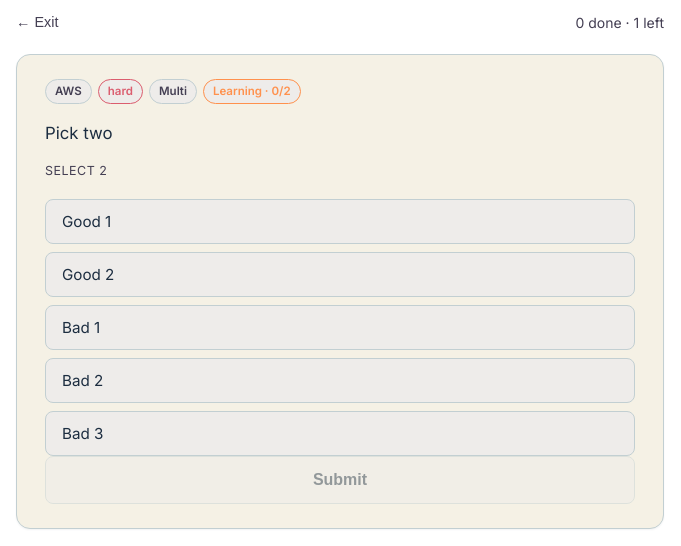
Test case: MRCard › shows Select N hint and disables Submit until exactly N picked
The width and height of the screenshot is (681, 546).
Expected: the text "Select 2" is shown, 45,163 -> 107,178
Expected: the button "Submit" is disabled, 45,456 -> 635,504
Click the button "Good 1" at point(87, 221), box 45,199 -> 635,244
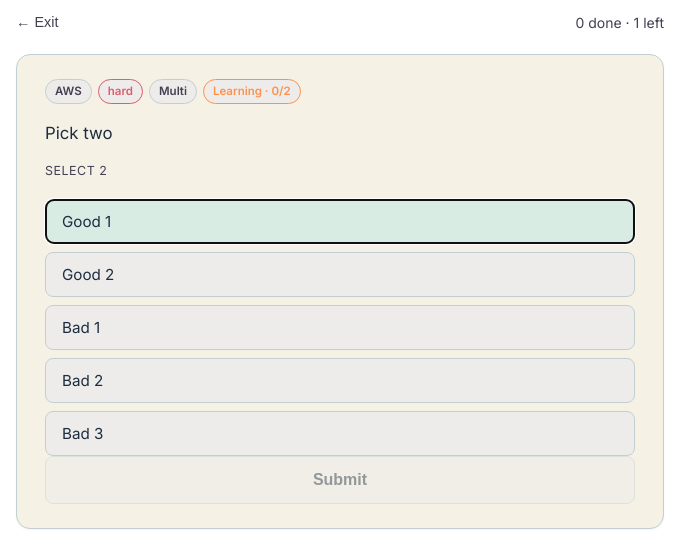
Expected: the button "Submit" is disabled, 45,456 -> 635,504
Click the button "Good 2" at point(88, 274), box 45,252 -> 635,297
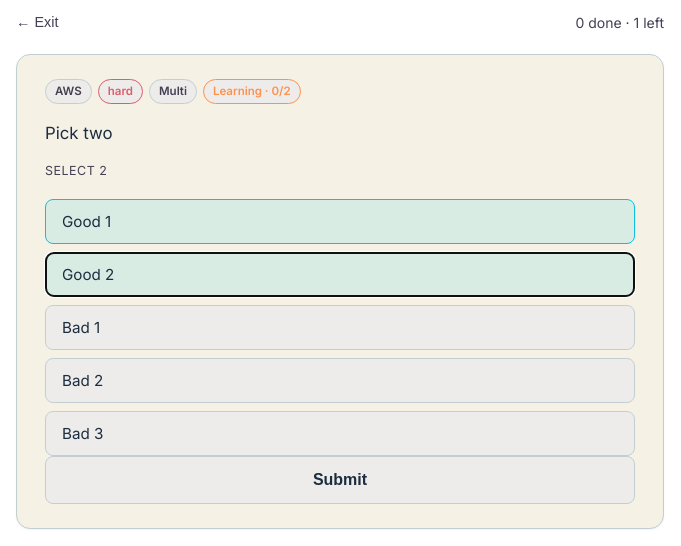
Expected: the button "Submit" is enabled, 45,456 -> 635,504
# deselect → disabled again
Click the button "Good 2" at point(88, 274), box 45,252 -> 635,297
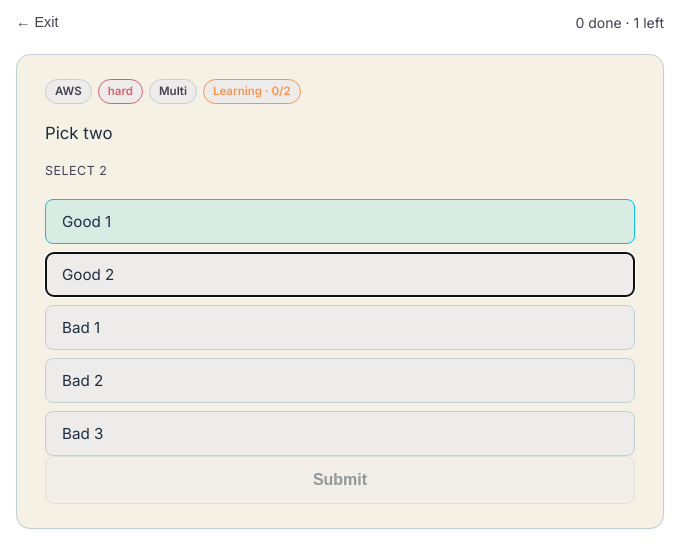
Expected: the button "Submit" is disabled, 45,456 -> 635,504
